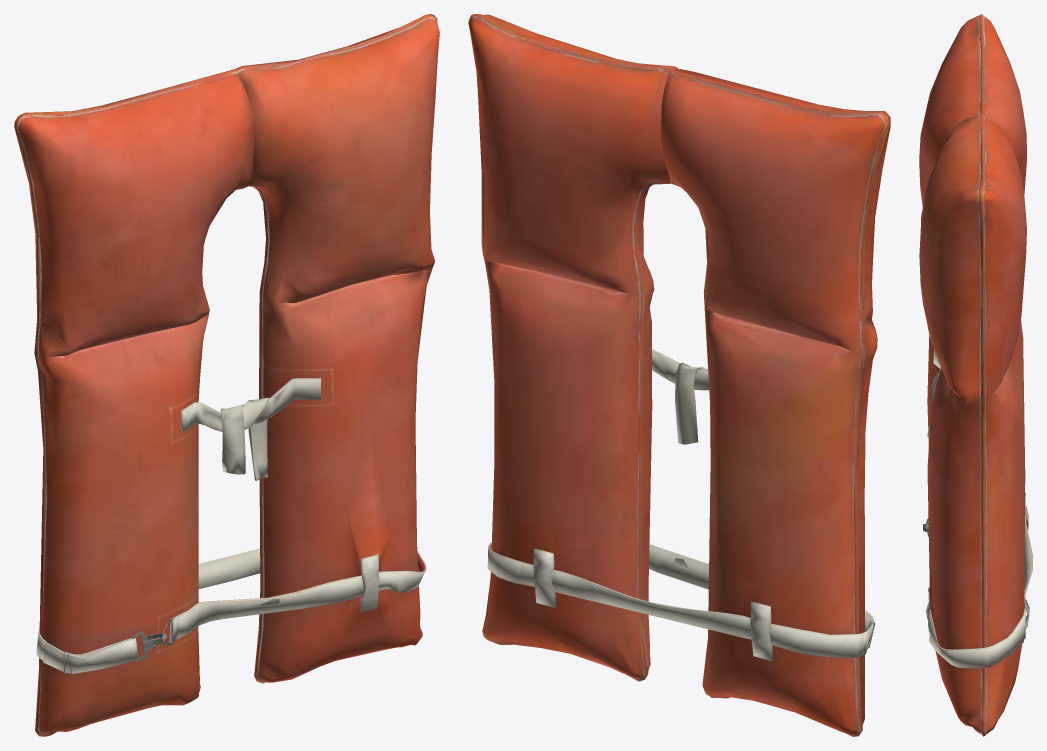
The model's file is life_jacket.glb.
The picture shows the model from 3 angles, left to right: view 1: azimuth 30°, elevation 25°; view 2: azimuth 150°, elevation 25°; view 3: azimuth 270°, elevation 25°; orthographic projection. The views are drawn at different scales.
Visible parts, largest first — view 1: life_jacket; view 2: life_jacket; view 3: life_jacket.
Boxes of the visible parts, x1,y1,x2,y2 form: life_jacket: [14, 14, 439, 736]; life_jacket: [468, 14, 890, 736]; life_jacket: [919, 14, 1032, 736].
Bounding box in the file's own units: 0.6954 × 0.9923 × 0.1833.
1 material, 1 textured.
